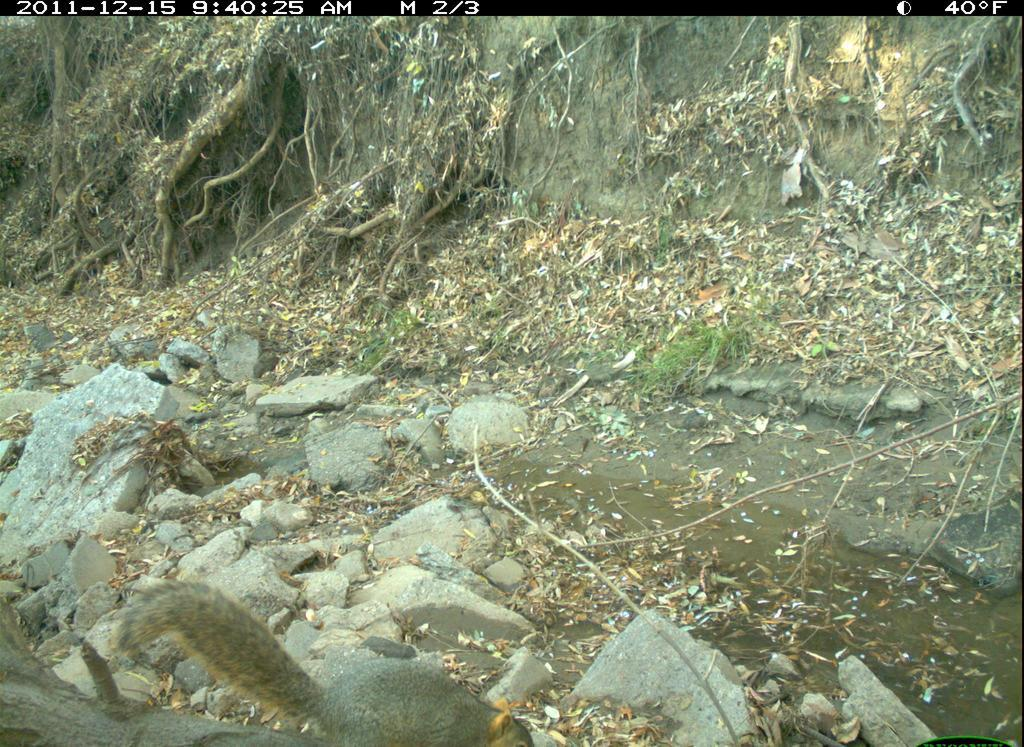squirrel: (118, 578, 538, 747)
